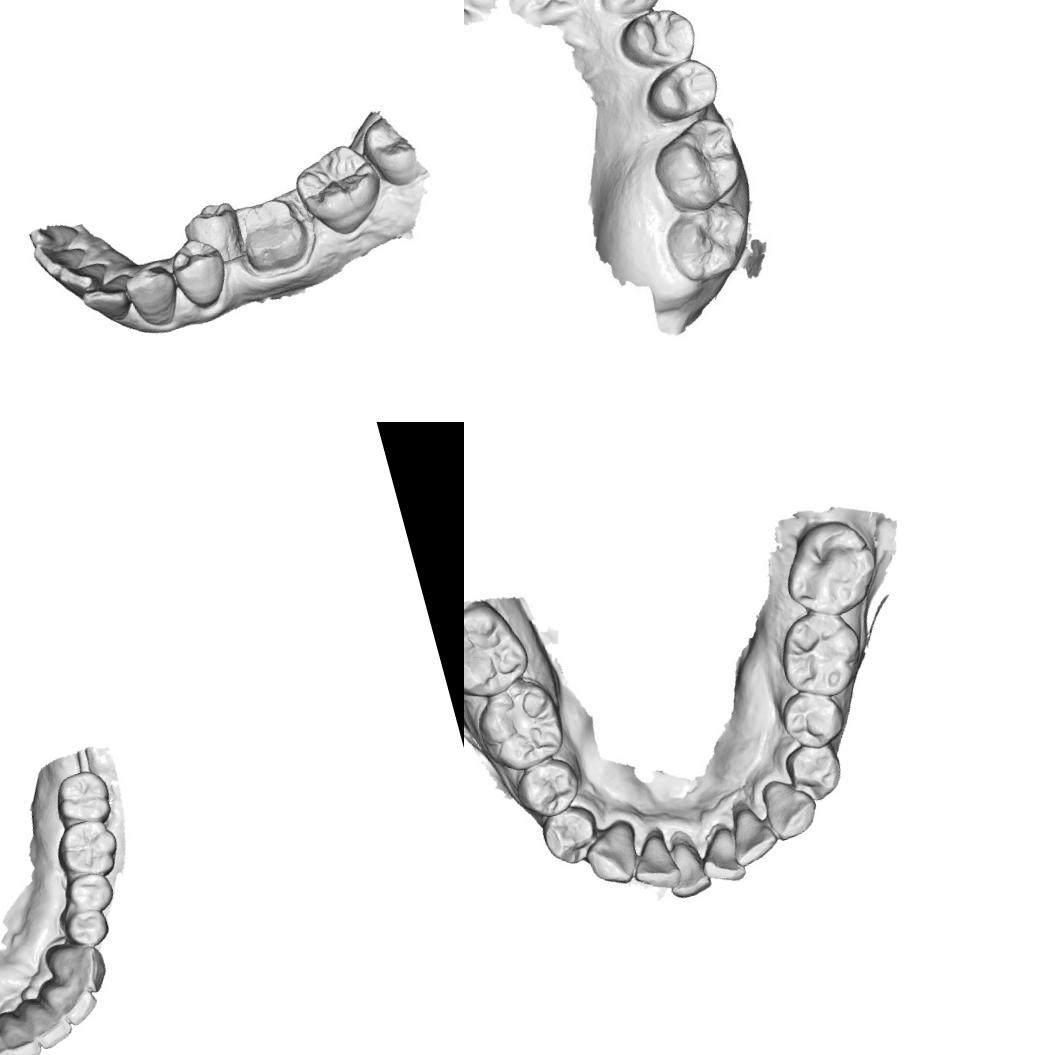canine: (577, 816, 648, 892), (119, 259, 186, 333), (42, 932, 112, 1002), (756, 770, 822, 843), (587, 0, 664, 24)
crown: (227, 188, 324, 284)
incisor: (623, 825, 685, 898), (76, 267, 143, 330), (721, 801, 782, 867), (29, 229, 94, 288), (41, 970, 102, 1032), (658, 835, 714, 902), (18, 989, 76, 1052), (693, 824, 748, 889), (52, 252, 116, 302), (0, 1003, 43, 1055)
molar: (772, 510, 887, 627), (768, 596, 876, 708), (644, 109, 752, 218), (286, 136, 394, 244), (466, 672, 572, 780), (657, 195, 758, 288), (464, 590, 536, 709), (48, 812, 126, 886), (47, 764, 116, 834)
premolar: (612, 0, 700, 77), (160, 227, 236, 313), (638, 53, 724, 128), (176, 195, 250, 273), (774, 682, 852, 756), (510, 752, 586, 823), (536, 799, 606, 870), (780, 736, 848, 807), (60, 866, 118, 920), (57, 903, 114, 954)
